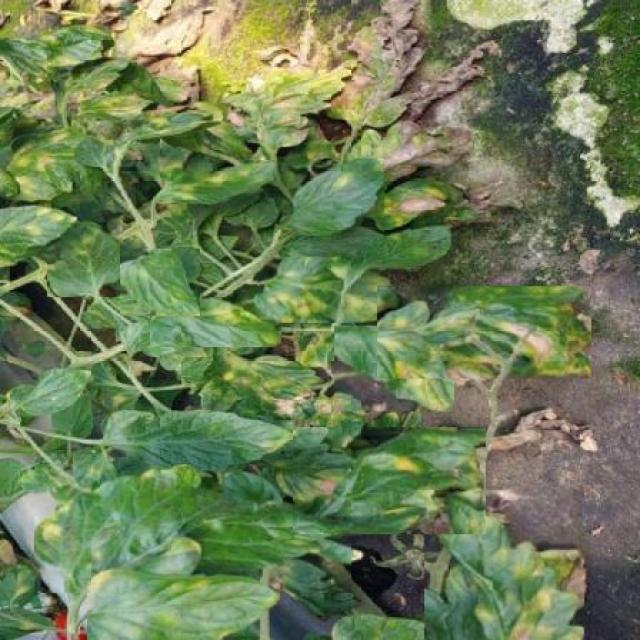Leaf Mold: (35, 465, 352, 594), (425, 487, 585, 640), (293, 427, 486, 534), (378, 286, 592, 378), (87, 565, 280, 640), (257, 255, 406, 324), (334, 327, 454, 412), (277, 160, 384, 237), (151, 297, 282, 347), (47, 221, 123, 298), (120, 248, 200, 316), (154, 160, 274, 204)
